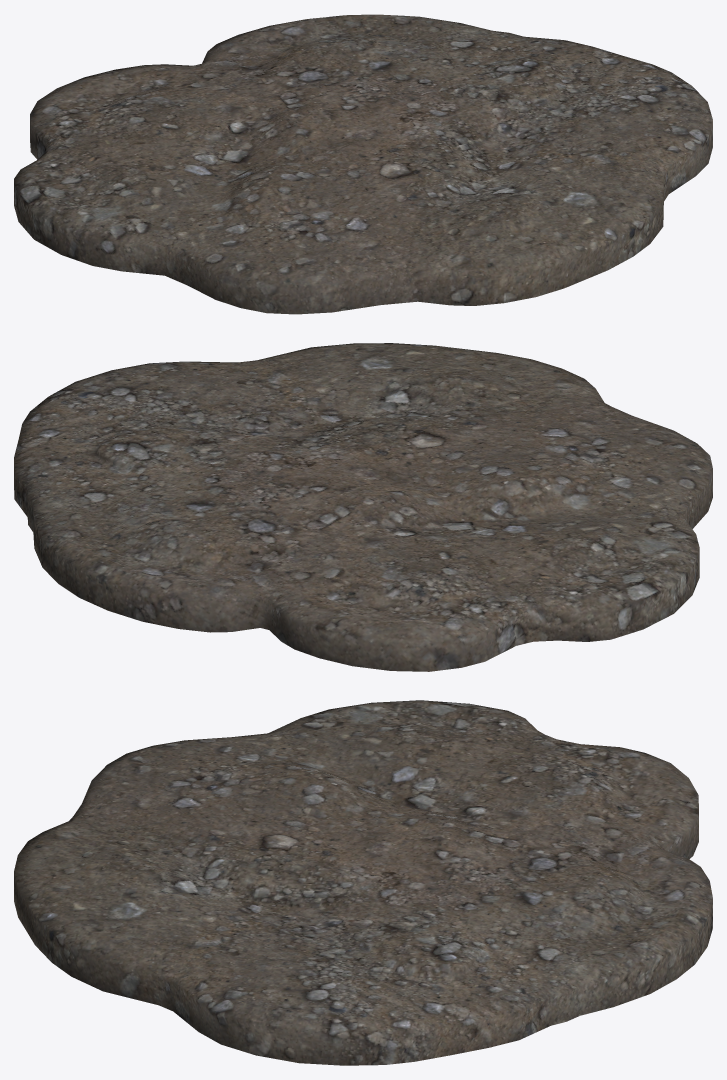
The model's file is cave_modules_floor_2.dae.
3 views of the same model, one above another, from view 1: azimuth 30°, elevation 25°; view 2: azimuth 150°, elevation 25°; view 3: azimuth 270°, elevation 25° (orthographic). The views are drawn at different scales.
Visible parts, largest first — view 1: floor_02; view 2: floor_02; view 3: floor_02.
Part boxes in pixels (x1,y1,x2,y2): floor_02: [14, 14, 712, 314]; floor_02: [14, 343, 712, 671]; floor_02: [14, 700, 712, 1065].
Size of what is drawn, in the model's own units: 5.9 by 0.4458 by 5.19.
